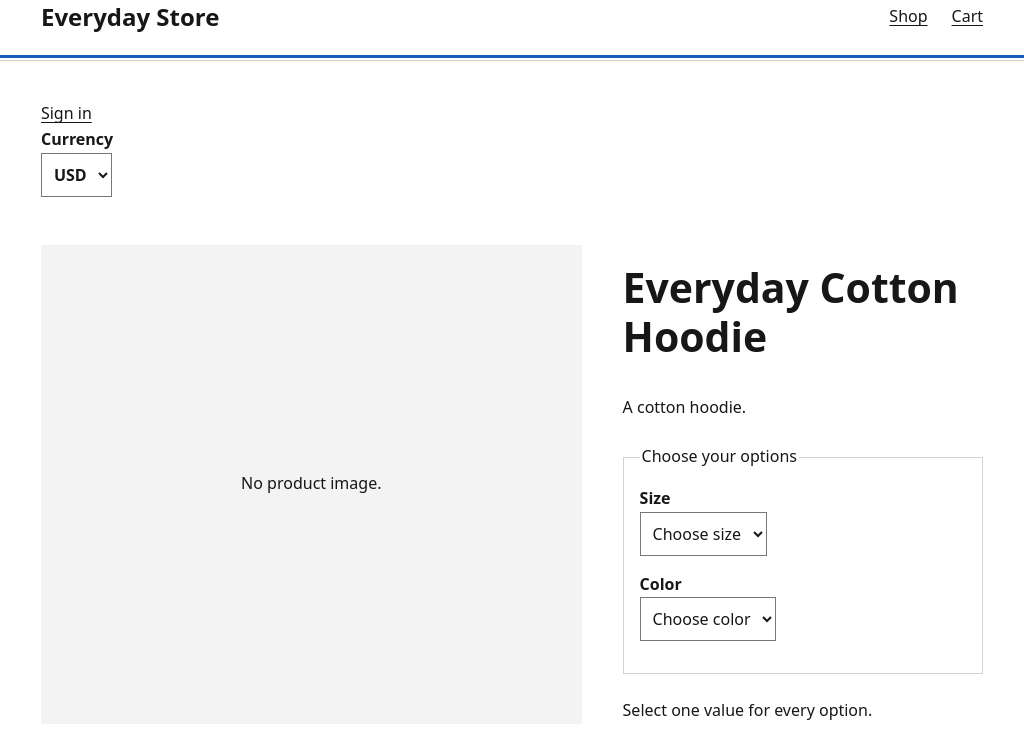
storefront composition › ignores an obsolete variant response even when the transport ignores cancellation
Select "Large" in the dropdown labelled "Size": x=703, y=534 [640,512,767,556]
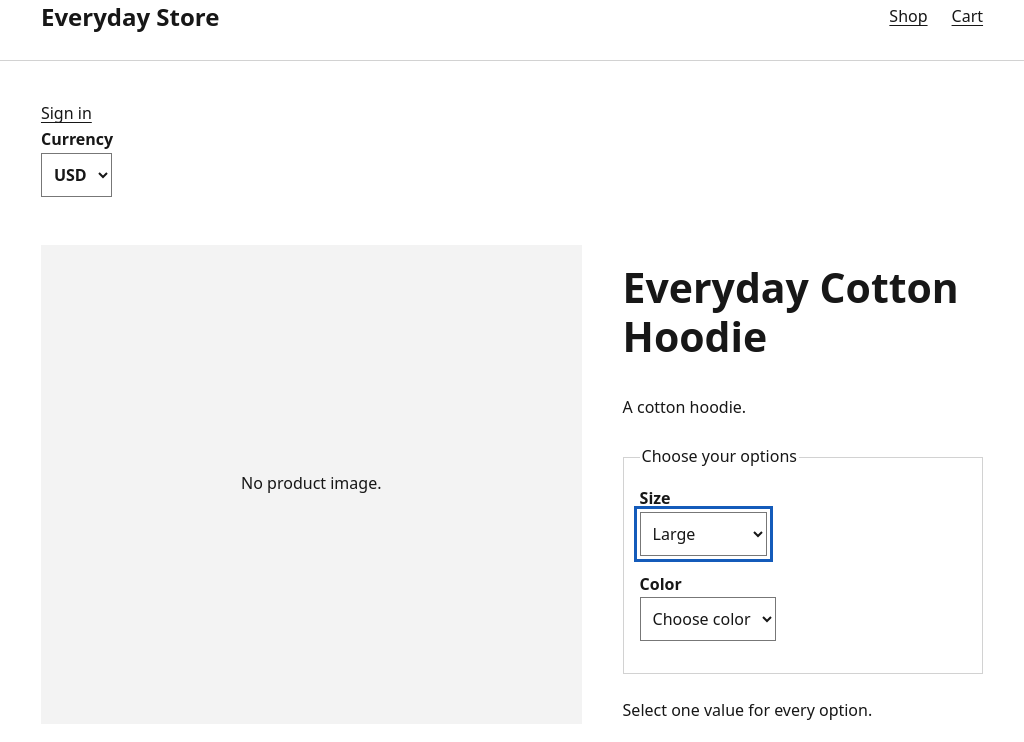
Select "Blue" in the dropdown labelled "Color": x=708, y=619 [640,597,776,641]
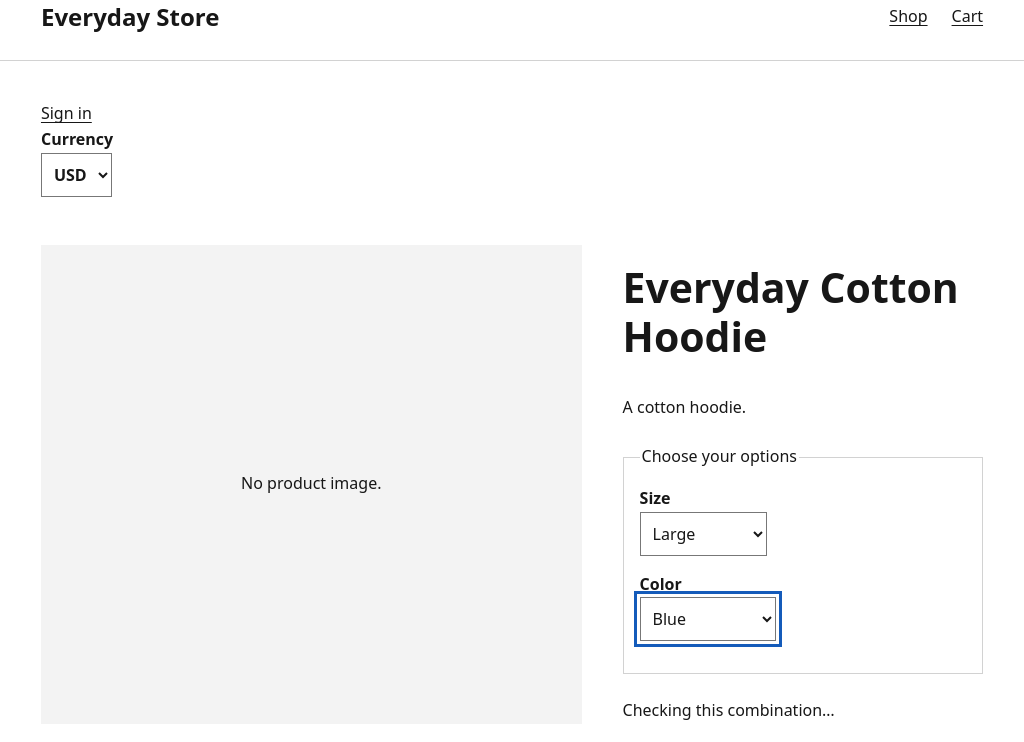
Select "Medium" in the dropdown labelled "Size": x=703, y=534 [640,512,767,556]
(page scrolled)
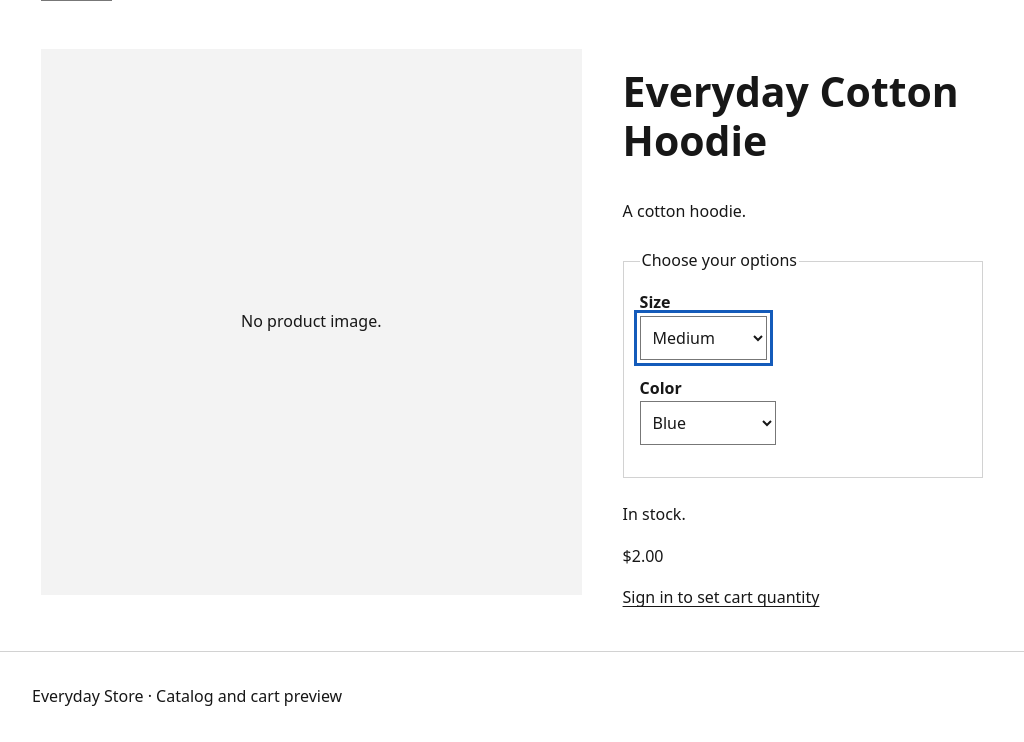
Result: the text "$2.00" is shown at [623,545,664,567]
